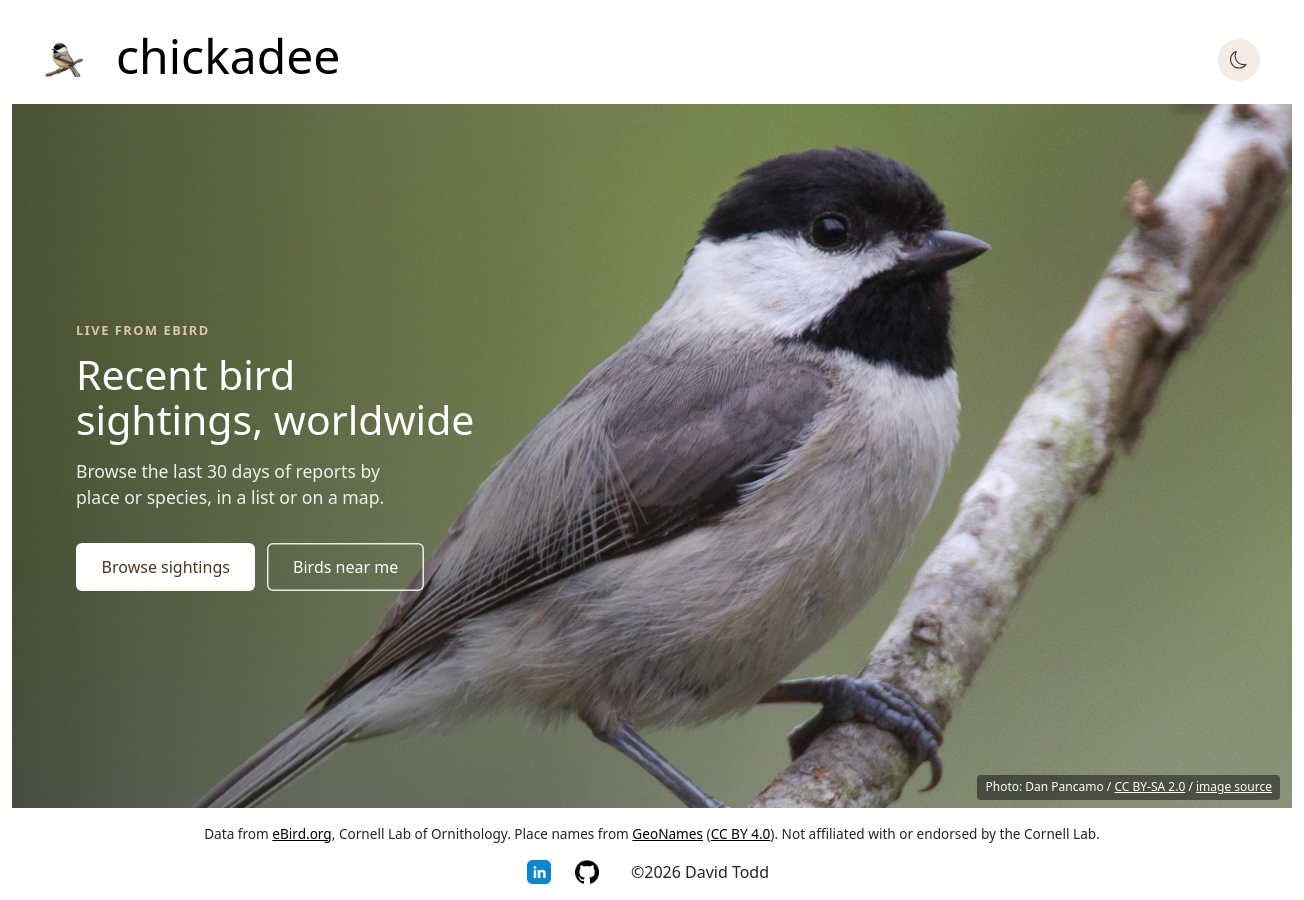
Test: Header and home page › starts at the home page, whose buttons open each page
Expected: the heading "Recent bird sightings, worldwide" is shown, [76, 352, 476, 442]
Click the button "Browse sightings": (166, 567) [76, 543, 256, 591]
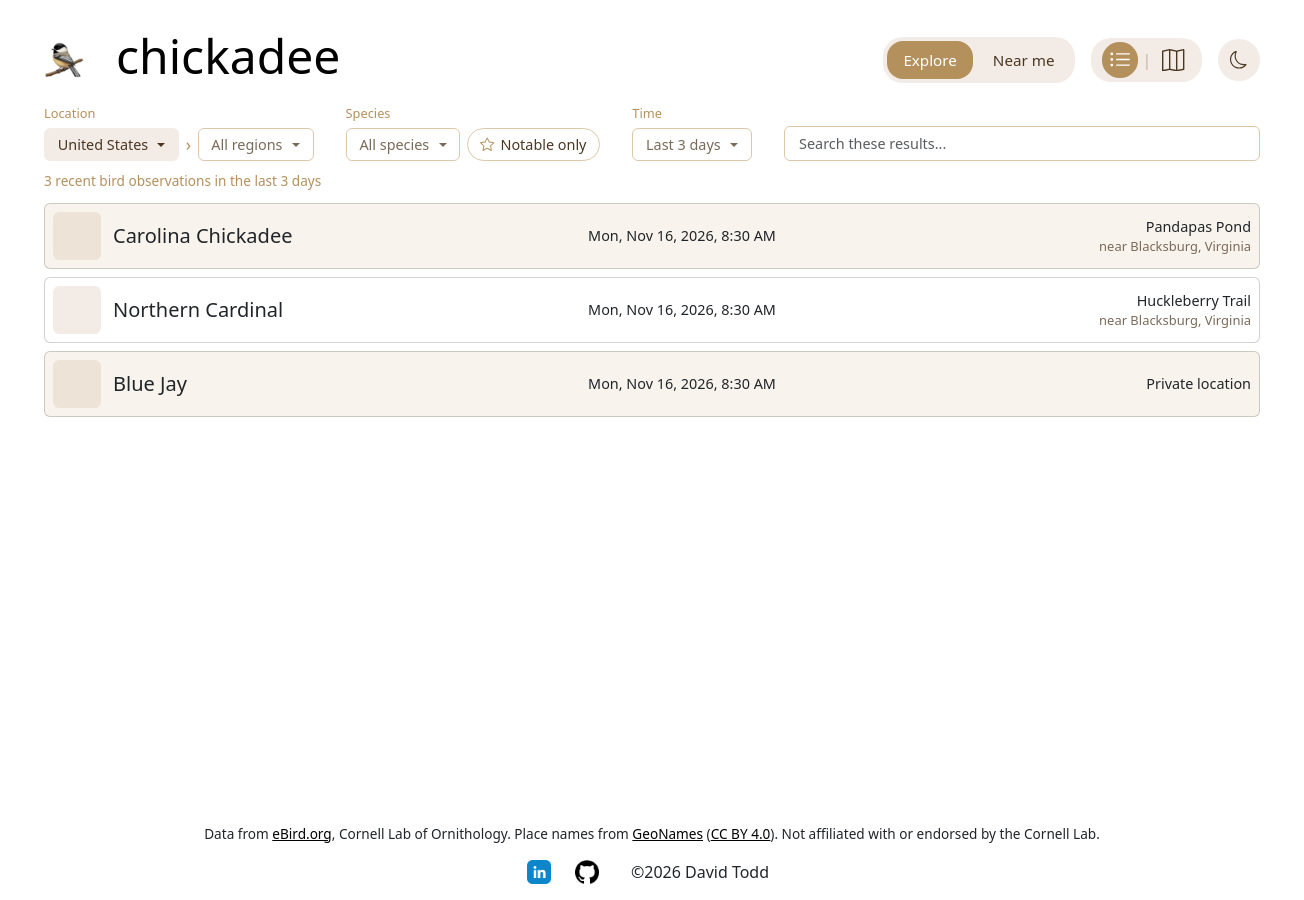
Now the navigation bar named "Pages" is shown, box [883, 37, 1075, 83]
